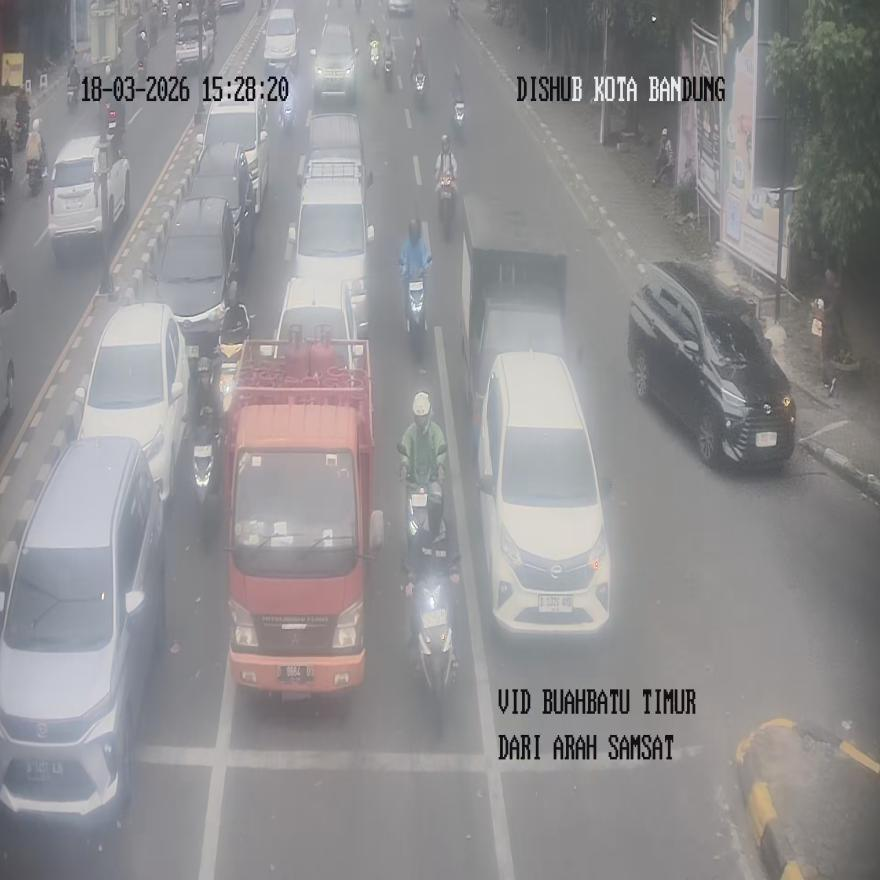Motor: (0, 436, 165, 824), (476, 351, 613, 636), (627, 258, 795, 468), (459, 195, 567, 456), (76, 302, 188, 503), (286, 114, 374, 337), (146, 197, 239, 360)
